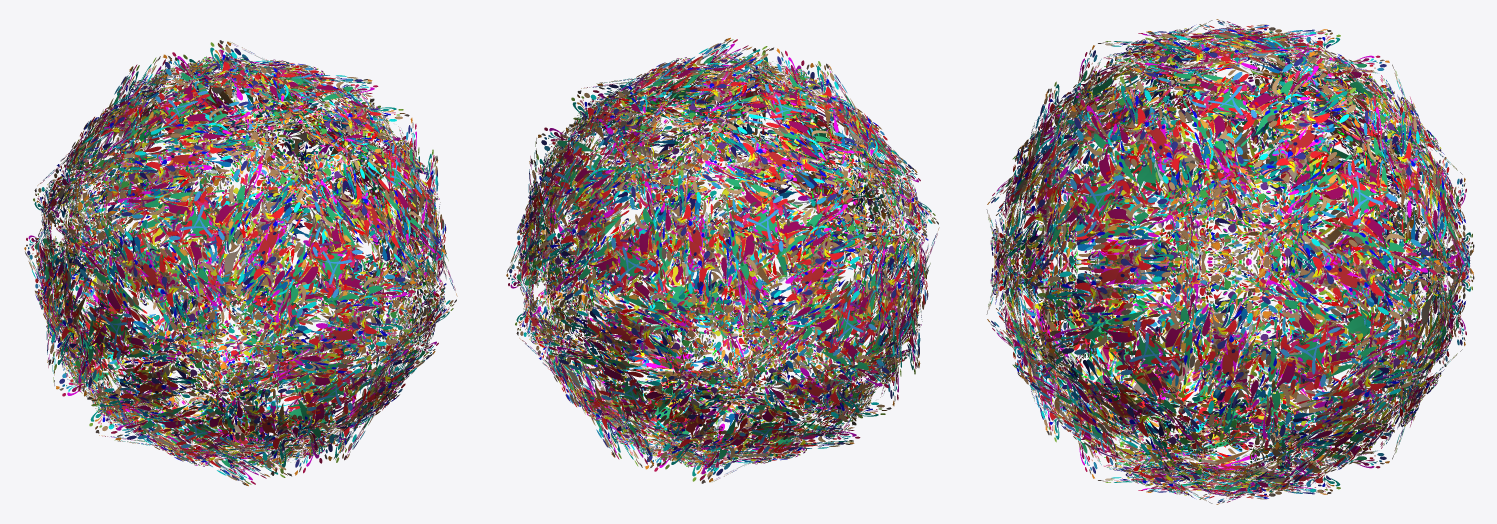
The model's file is 25MedialPentagonalHexecontahedron.gltf.
3 renders of one model, left to right at view 1: azimuth 30°, elevation 25°; view 2: azimuth 150°, elevation 25°; view 3: azimuth 270°, elevation 25°, orthographic. The views are drawn at different scales.
Visible parts, largest first — view 1: 7MedialPentagonalHexecontahedron; view 2: 7MedialPentagonalHexecontahedron; view 3: 7MedialPentagonalHexecontahedron.
Part boxes in pixels (x1,y1,x2,y2): 7MedialPentagonalHexecontahedron: (24,40,457,486); 7MedialPentagonalHexecontahedron: (506,37,939,483); 7MedialPentagonalHexecontahedron: (986,19,1474,504).
Size of the model in its own units: 2.46 by 2.46 by 2.46.
Materials: 1 (1 with a texture image).
